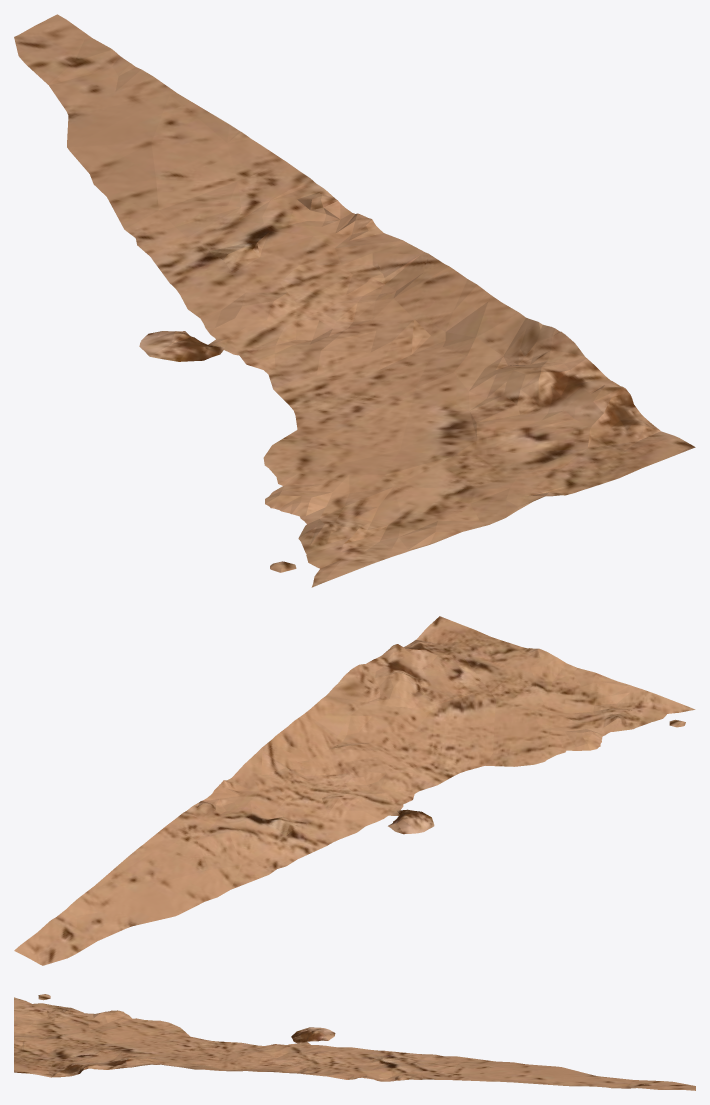
3 renders of one model, top to bottom at view 1: azimuth 30°, elevation 25°; view 2: azimuth 150°, elevation 25°; view 3: azimuth 270°, elevation 25°, orthographic. The views are drawn at different scales.
Bounding box in the file's own units: 0.7487 × 0.1149 × 2.09.
Materials: 1 (1 with a texture image).
